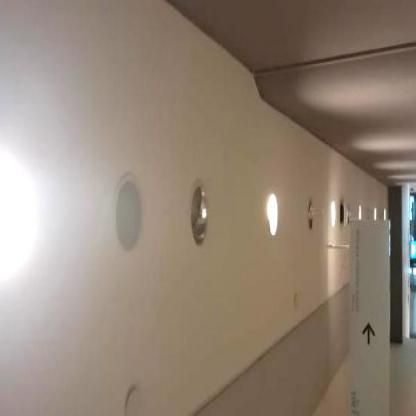light_off: (182, 156, 216, 268), (298, 175, 318, 250), (337, 192, 347, 236)
